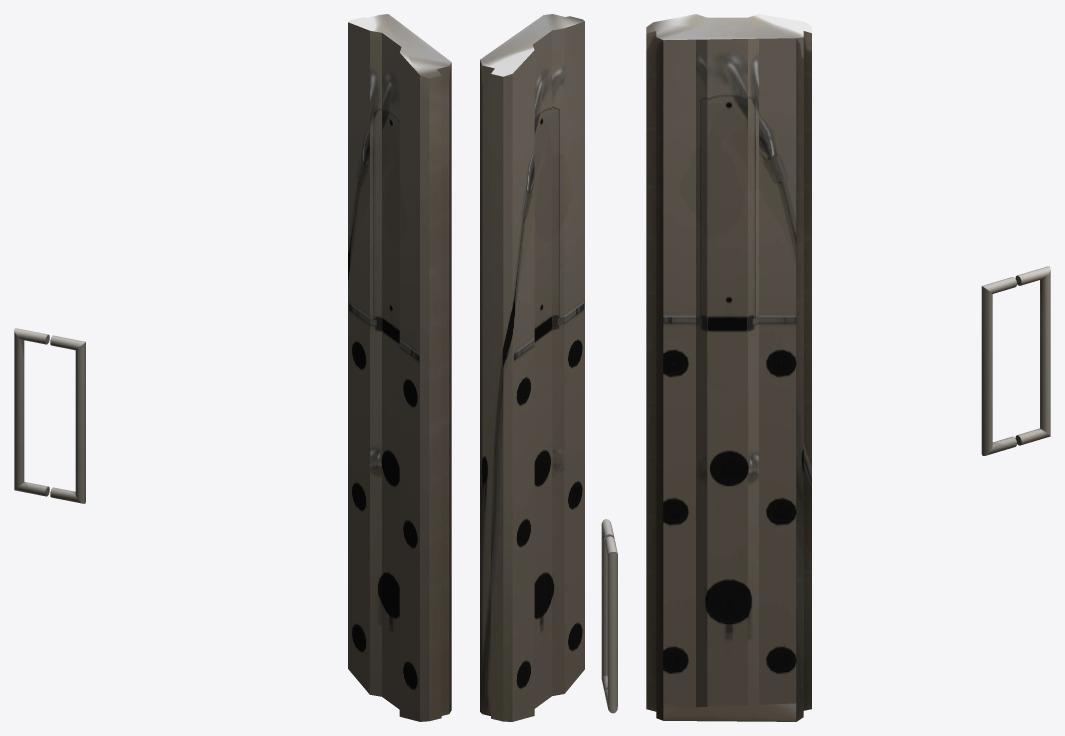
Rendered from 2014_WSJ_JJ_25.FBX.
The picture shows the model from 3 angles, left to right: view 1: azimuth 30°, elevation 25°; view 2: azimuth 150°, elevation 25°; view 3: azimuth 270°, elevation 25°; orthographic projection. The views are drawn at different scales.
Parts seen in each view (by area): view 1: 2014_WSJ_JJ_25; view 2: 2014_WSJ_JJ_25; view 3: 2014_WSJ_JJ_25.
Part boxes in pixels (box(x1,y1,x2,y2)): 2014_WSJ_JJ_25: box(14, 14, 451, 721); 2014_WSJ_JJ_25: box(480, 14, 617, 721); 2014_WSJ_JJ_25: box(646, 14, 1050, 721).
Size of the model in its own units: 0.5711 by 1.42 by 0.7461.
